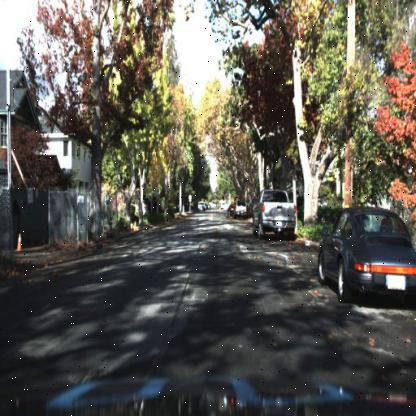car: (315, 194, 415, 314), (317, 201, 416, 321), (249, 183, 300, 247), (251, 188, 298, 236), (233, 196, 248, 220), (233, 198, 247, 219), (226, 202, 236, 216)
